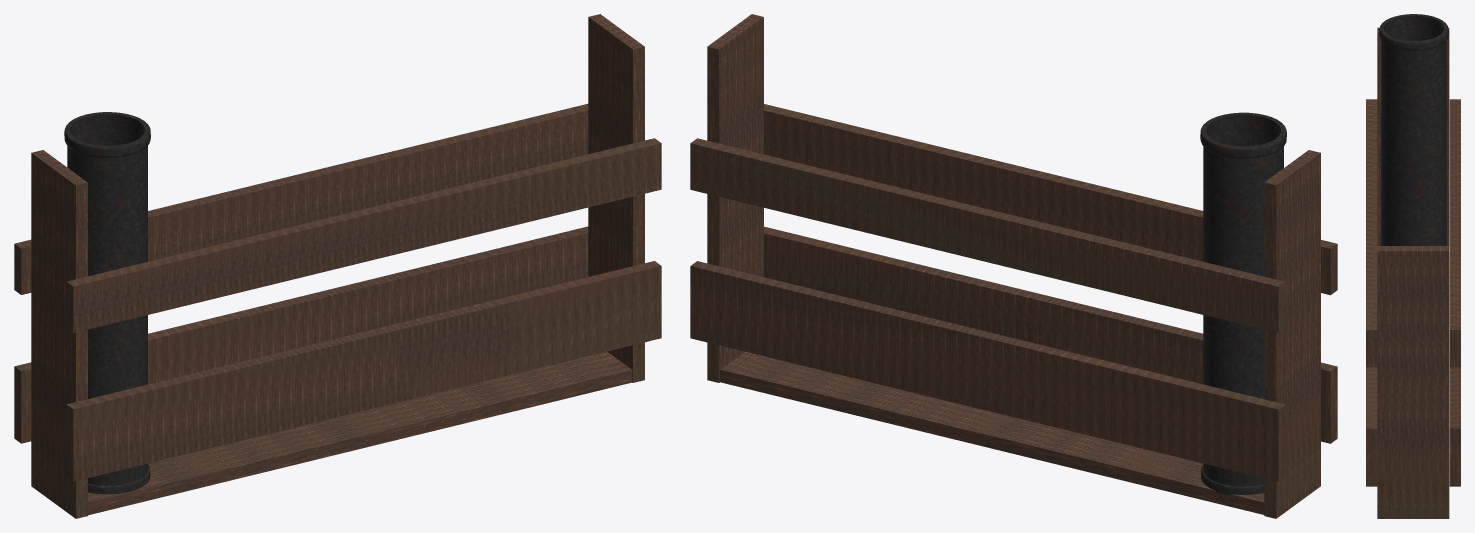
3 views of the same model, side by side, from view 1: azimuth 30°, elevation 25°; view 2: azimuth 150°, elevation 25°; view 3: azimuth 270°, elevation 25° (orthographic). The views are drawn at different scales.
Visible parts, largest first — view 1: 枠, 筒; view 2: 枠, 筒; view 3: 枠, 筒.
Part boxes in pixels (box(x1,y1,x2,y2)): 枠: box(14, 14, 661, 518); 筒: box(64, 112, 150, 494); 枠: box(690, 14, 1337, 518); 筒: box(1200, 112, 1286, 494); 枠: box(1366, 27, 1460, 518); 筒: box(1379, 14, 1448, 245).
Size of the model in its own units: 4.91 by 2.87 by 0.8519.
Materials: 1 (1 with a texture image).
